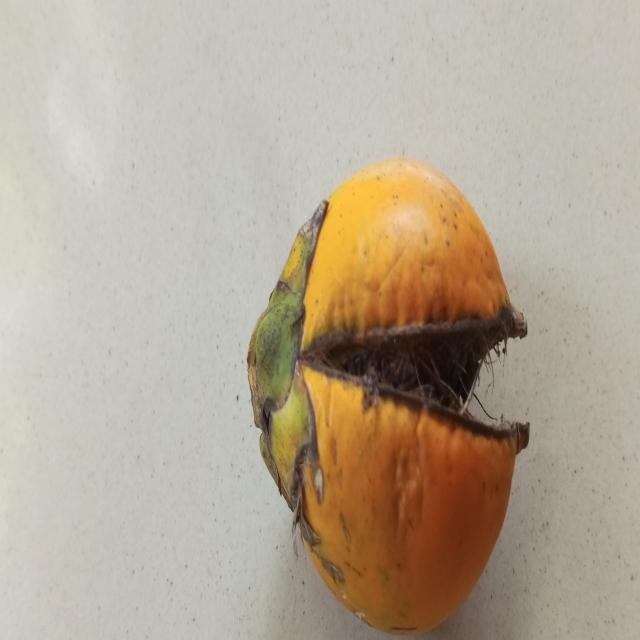damaged: (247, 159, 529, 632)
